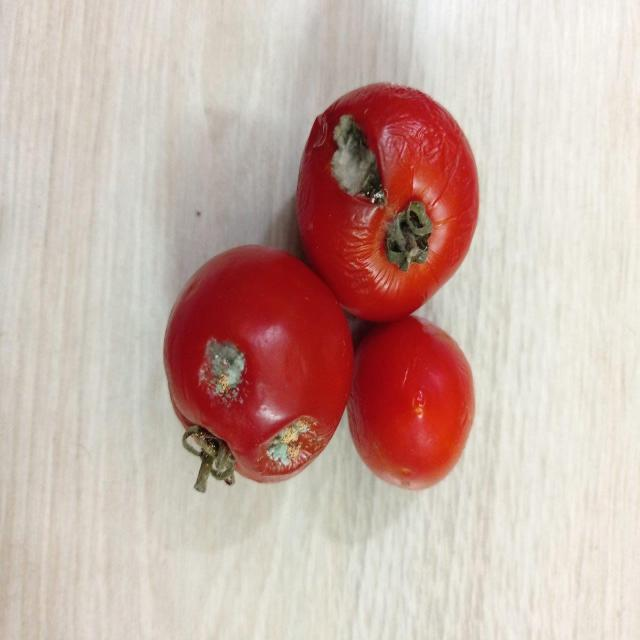Rotten: (165, 245, 355, 488), (296, 84, 478, 322)
